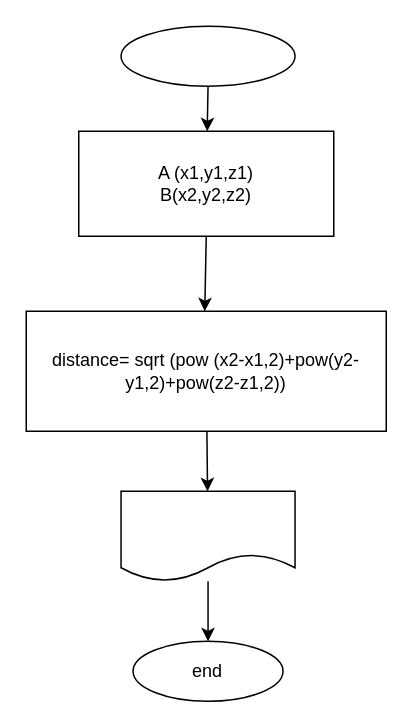
The diagram is 413 pixels wide and 728 high, and some of its shapes have lost their labels. The shapes that lost their labels are listed below. From the top down, each one's centre as x and y in pixels, then its label:
point 207,55: start
point 207,535: distance
